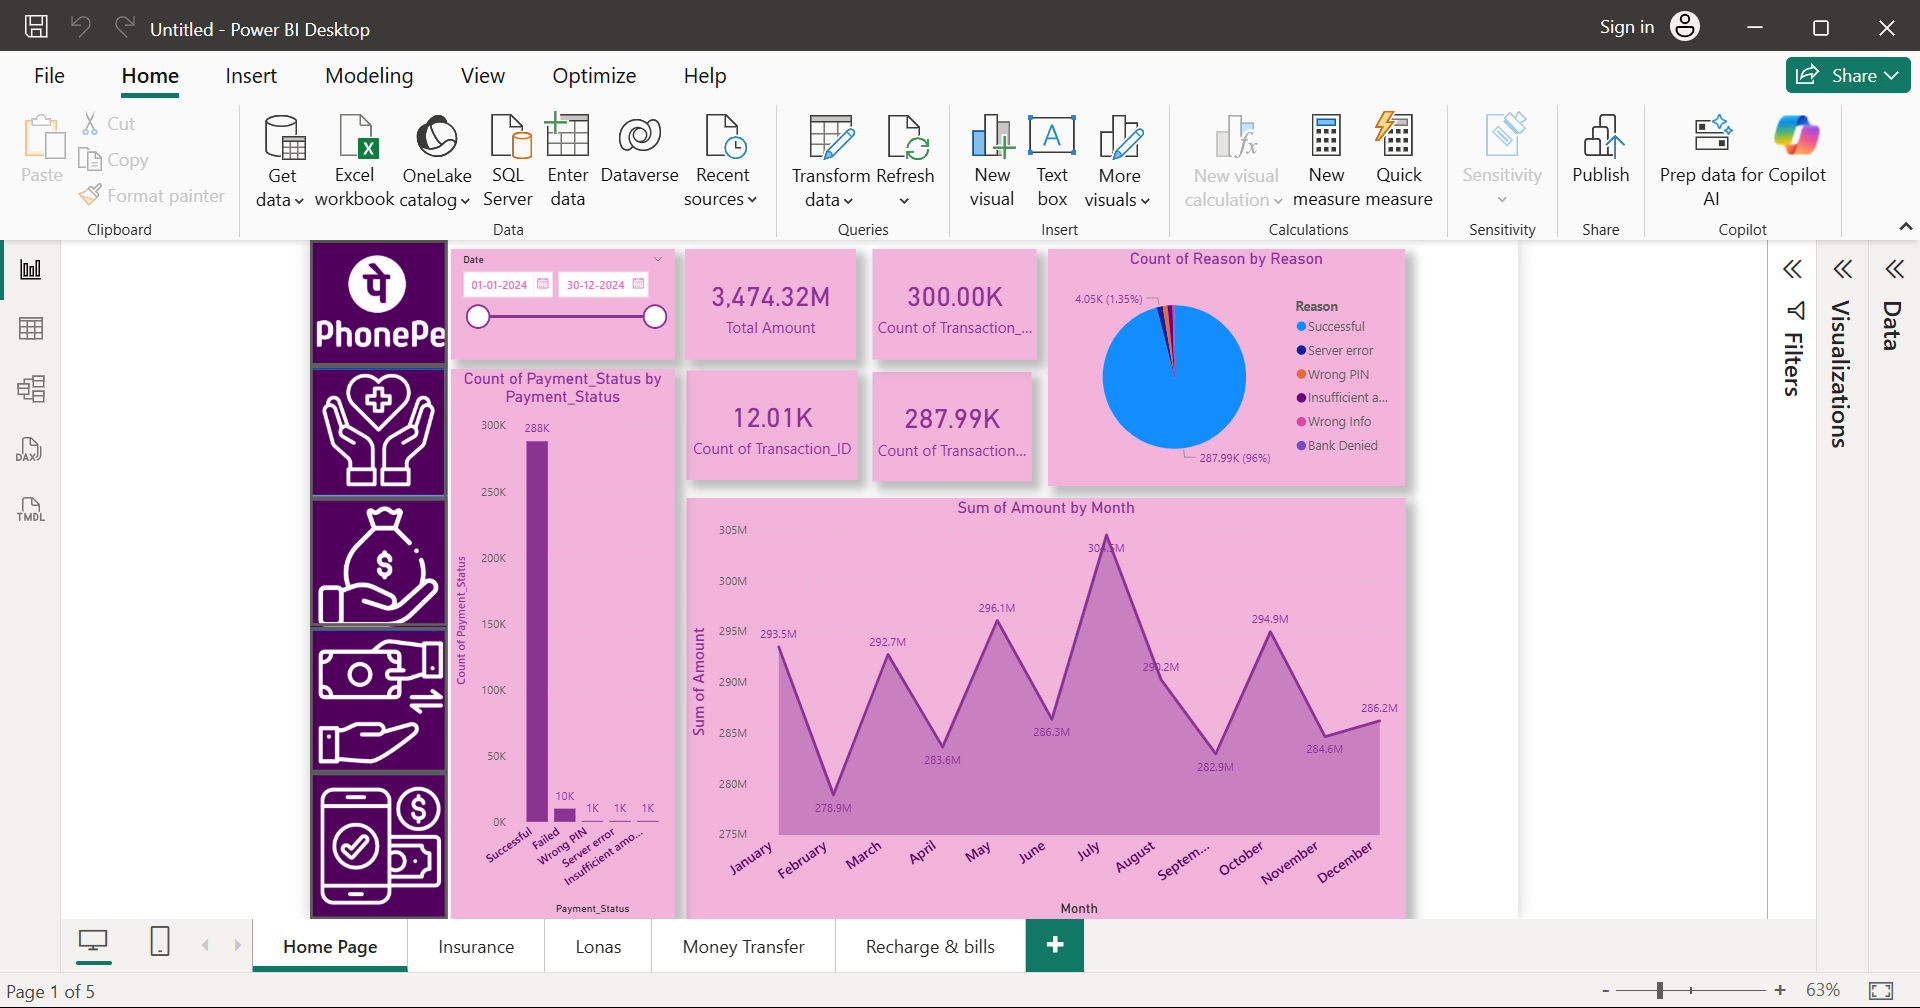

The dashboard page shown, as its layout file describes it:
{"tool":"powerbi","page":{"name":"Home Page","canvas":[1280,720],"ordinal":0},"visuals":[{"type":"shape","box":[0,0,145.7,137.1],"z":0},{"type":"shape","box":[0,137.1,145.7,134.3],"z":1000},{"type":"shape","box":[0,271.4,145.7,141.4],"z":2000},{"type":"shape","box":[0,412.9,145.7,151.4],"z":3000},{"type":"shape","box":[0,564.3,145.7,155.7],"z":4000},{"type":"image","box":[0,0,150,137.1],"z":5000},{"type":"image","box":[0,272.9,150,141.4],"z":6000},{"type":"image","box":[0,412.9,150,151.4],"z":7000},{"type":"image","box":[0,564.3,150,155.7],"z":8000},{"type":"slicer","fields":{"Values":["All_Transactions.Date"]},"box":[150,10,237.1,117.1],"z":9000},{"type":"card","fields":{"Values":["Sum(All_Transactions.Amount)"]},"box":[397.1,10,181.4,117.1],"z":10000},{"type":"card","fields":{"Values":["Count(All_Transactions.Transaction_ID)"]},"box":[595.7,140,168.6,115.7],"z":11000},{"type":"card","fields":{"Values":["Count(All_Transactions.Transaction_ID)"]},"box":[595.7,10,174.3,117.1],"z":12000},{"type":"card","fields":{"Values":["Count(All_Transactions.Transaction_ID)"]},"box":[398.6,138.6,181.4,115.7],"z":13000},{"type":"pieChart","fields":{"Category":["All_Transactions.Reason"],"Y":["CountNonNull(All_Transactions.Reason)"]},"box":[782.9,10,378.6,251.4],"z":14000},{"type":"lineChart","fields":{"Category":["All_Transactions.Date.Variation.Date Hierarchy.Month"],"Y":["Sum(All_Transactions.Amount)"]},"box":[398.6,272.9,762.9,447.1],"z":15000},{"type":"columnChart","fields":{"Category":["All_Transactions.Payment_Status"],"Y":["CountNonNull(All_Transactions.Payment_Status)"]},"box":[150,137.1,237.1,582.9],"z":16000},{"type":"actionButton","box":[0,0,145.7,135.7],"z":17000},{"type":"actionButton","box":[0,130,145,145],"z":18000},{"type":"actionButton","box":[0,274.3,145.7,135.7],"z":19000},{"type":"actionButton","box":[0,410,145.7,154.3],"z":20000},{"type":"actionButton","box":[0,564.3,145.7,155.7],"z":21000},{"type":"image","box":[0,127.5,145,147.5],"z":22000}]}

Visuals, with their boxes on the page's 1280x720 design canvas (x1, y1, x2, y2). These are canvas units, not pixel positions in the 1920x1008 screenshot, which may show the page scaled, cropped or inside an application window:
shape: BBox(0, 0, 146, 137)
shape: BBox(0, 137, 146, 271)
shape: BBox(0, 271, 146, 413)
shape: BBox(0, 413, 146, 564)
shape: BBox(0, 564, 146, 720)
image: BBox(0, 0, 150, 137)
image: BBox(0, 273, 150, 414)
image: BBox(0, 413, 150, 564)
image: BBox(0, 564, 150, 720)
slicer - All_Transactions.Date: BBox(150, 10, 387, 127)
card - Sum(All_Transactions.Amount): BBox(397, 10, 578, 127)
card - Count(All_Transactions.Transaction_ID): BBox(596, 140, 764, 256)
card - Count(All_Transactions.Transaction_ID): BBox(596, 10, 770, 127)
card - Count(All_Transactions.Transaction_ID): BBox(399, 139, 580, 254)
pieChart - All_Transactions.Reason x CountNonNull(All_Transactions.Reason): BBox(783, 10, 1162, 261)
lineChart - All_Transactions.Date.Variation.Date Hierarchy.Month x Sum(All_Transactions.Amount): BBox(399, 273, 1162, 720)
columnChart - All_Transactions.Payment_Status x CountNonNull(All_Transactions.Payment_Status): BBox(150, 137, 387, 720)
actionButton: BBox(0, 0, 146, 136)
actionButton: BBox(0, 130, 145, 275)
actionButton: BBox(0, 274, 146, 410)
actionButton: BBox(0, 410, 146, 564)
actionButton: BBox(0, 564, 146, 720)
image: BBox(0, 128, 145, 275)
